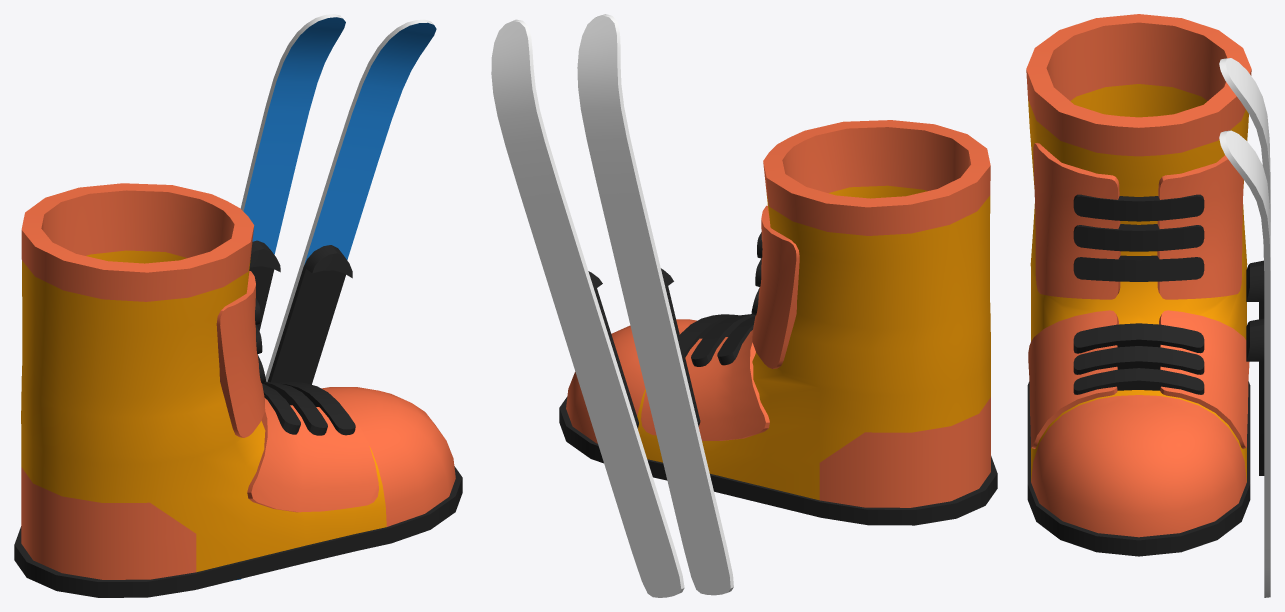
The model's file is skis.fbx.
The picture shows the model from 3 angles, left to right: view 1: azimuth 30°, elevation 25°; view 2: azimuth 150°, elevation 25°; view 3: azimuth 270°, elevation 25°; orthographic projection. The views are drawn at different scales.
Parts seen in each view (by area): view 1: Sphere.521; view 2: Sphere.521; view 3: Sphere.521.
Part boxes in pixels (x1,y1,x2,y2): Sphere.521: (14,14,462,597); Sphere.521: (491,14,997,597); Sphere.521: (1026,14,1270,597).
Bounding box in the file's own units: 214 × 254 × 98.18.
Materials: 1 (1 with a texture image).
